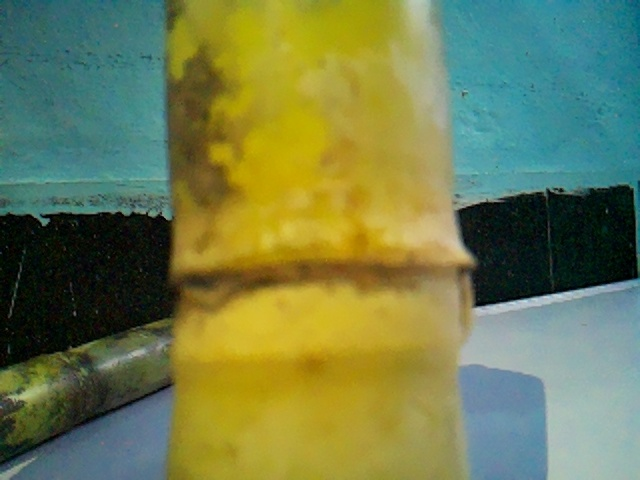Good Sugarcane: (176, 2, 454, 480)
Node: (152, 198, 490, 364)
